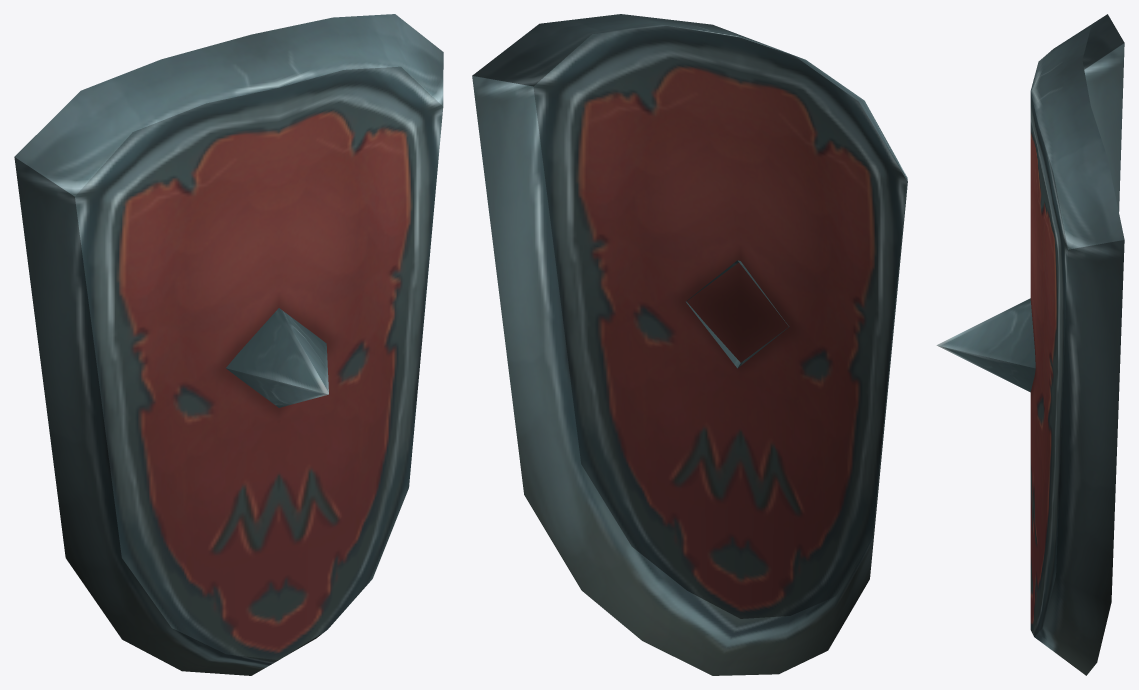
The model's file is shield.fbx.
The picture shows the model from 3 angles, left to right: view 1: azimuth 30°, elevation 25°; view 2: azimuth 150°, elevation 25°; view 3: azimuth 270°, elevation 25°; orthographic projection. The views are drawn at different scales.
Visible parts, largest first — view 1: shield; view 2: shield; view 3: shield.
Boxes of the visible parts, x1,y1,x2,y2 form: shield: (14, 14, 443, 675); shield: (472, 14, 907, 675); shield: (936, 14, 1124, 675).
Size of the model in its own units: 1.76 by 2.51 by 0.7088.
